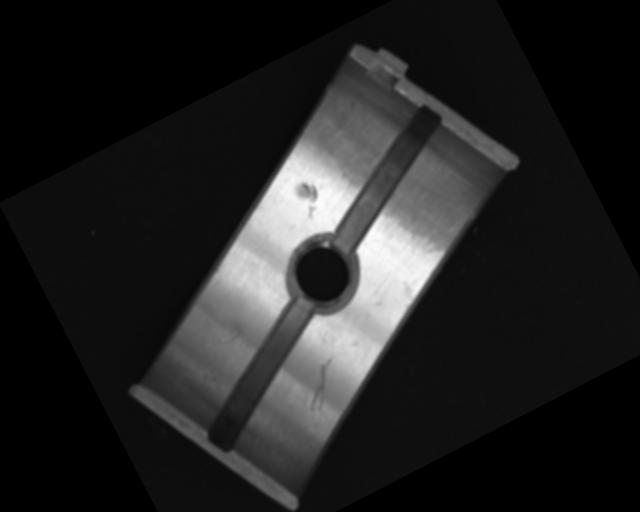bruise: (291, 176, 327, 220)
gap: (169, 294, 352, 457), (300, 102, 475, 257)
hole: (272, 227, 368, 322)
nick: (290, 354, 350, 415), (219, 329, 245, 346)
